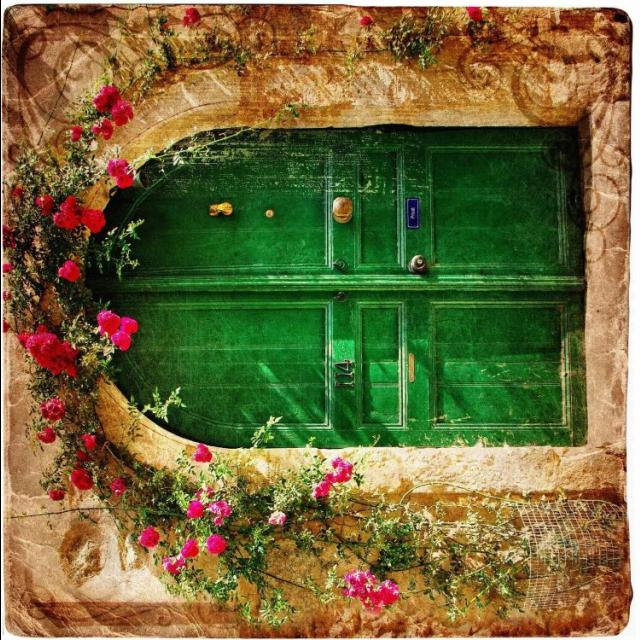close: (109, 165, 571, 422)
